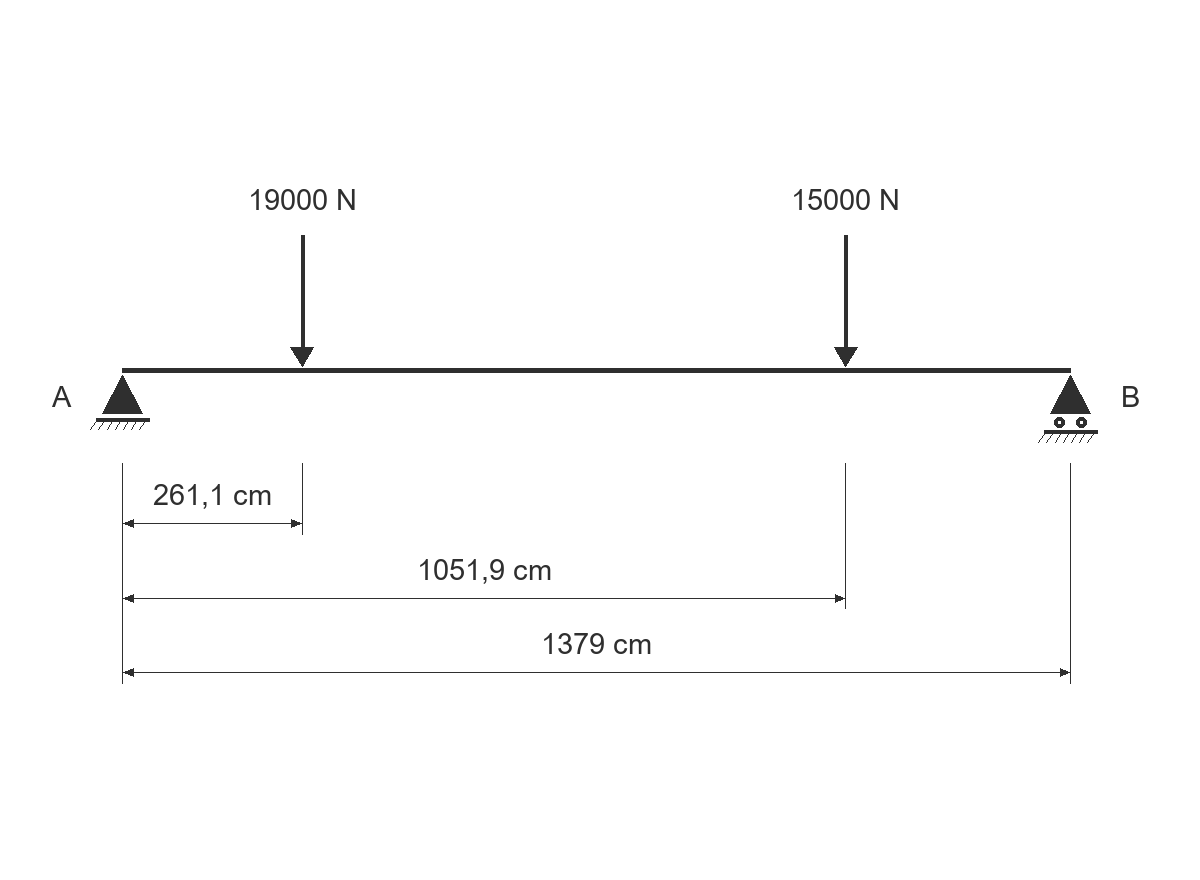pin_support: (90, 375, 150, 430)
point_load: (290, 235, 314, 367), (834, 235, 858, 367)
roller_support: (1038, 375, 1098, 443)
